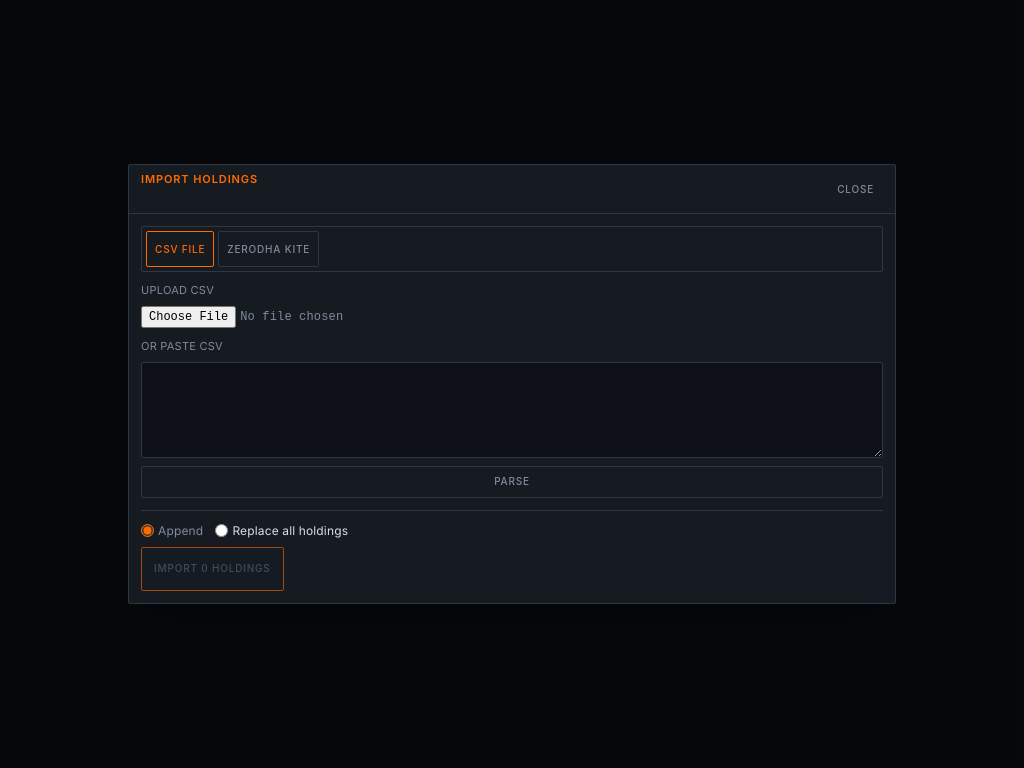
Test: PortfolioImportDrawer › Kite tab shows error on 400 response
Click the tab "Zerodha Kite": (269, 249) [218,231,319,267]
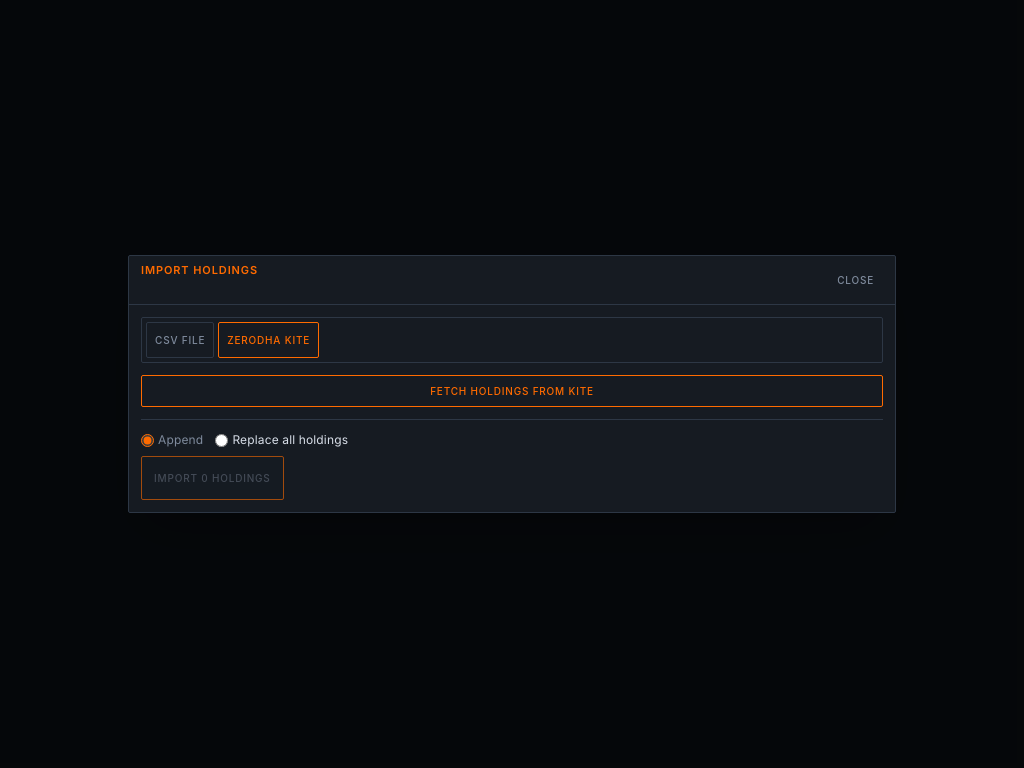
Click the button "Fetch holdings from Kite": (512, 391) [141,375,883,407]
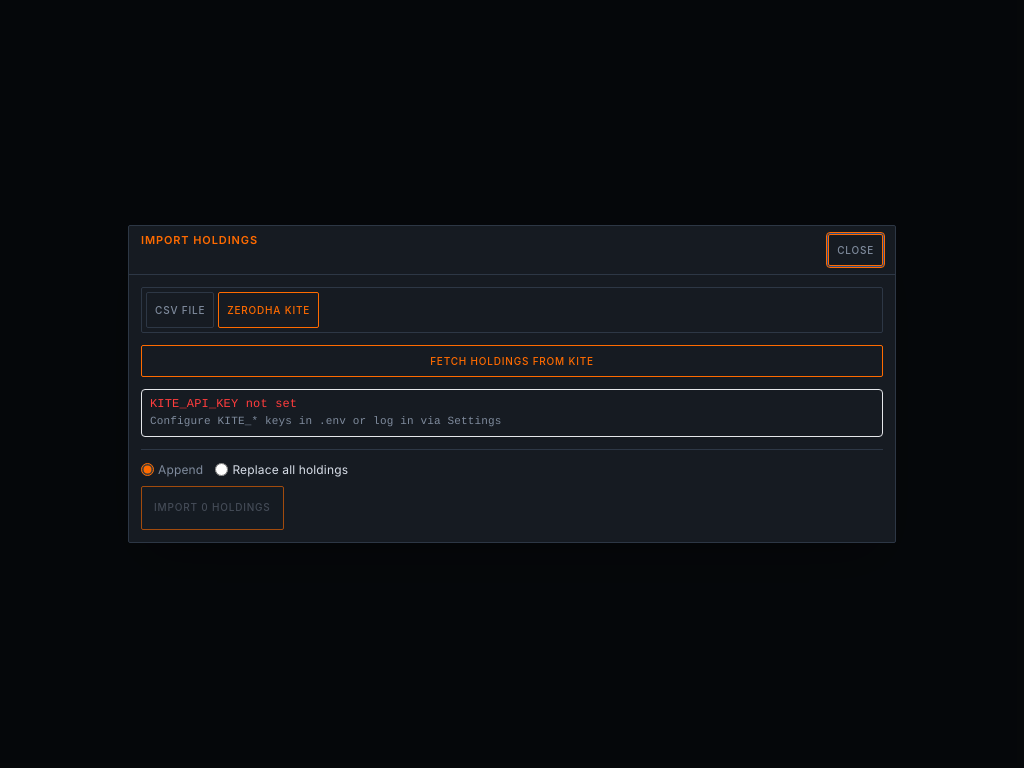
expect the text "Configure KITE_* keys in .env or log in via Settings" is shown: met, box [150,416,502,428]
